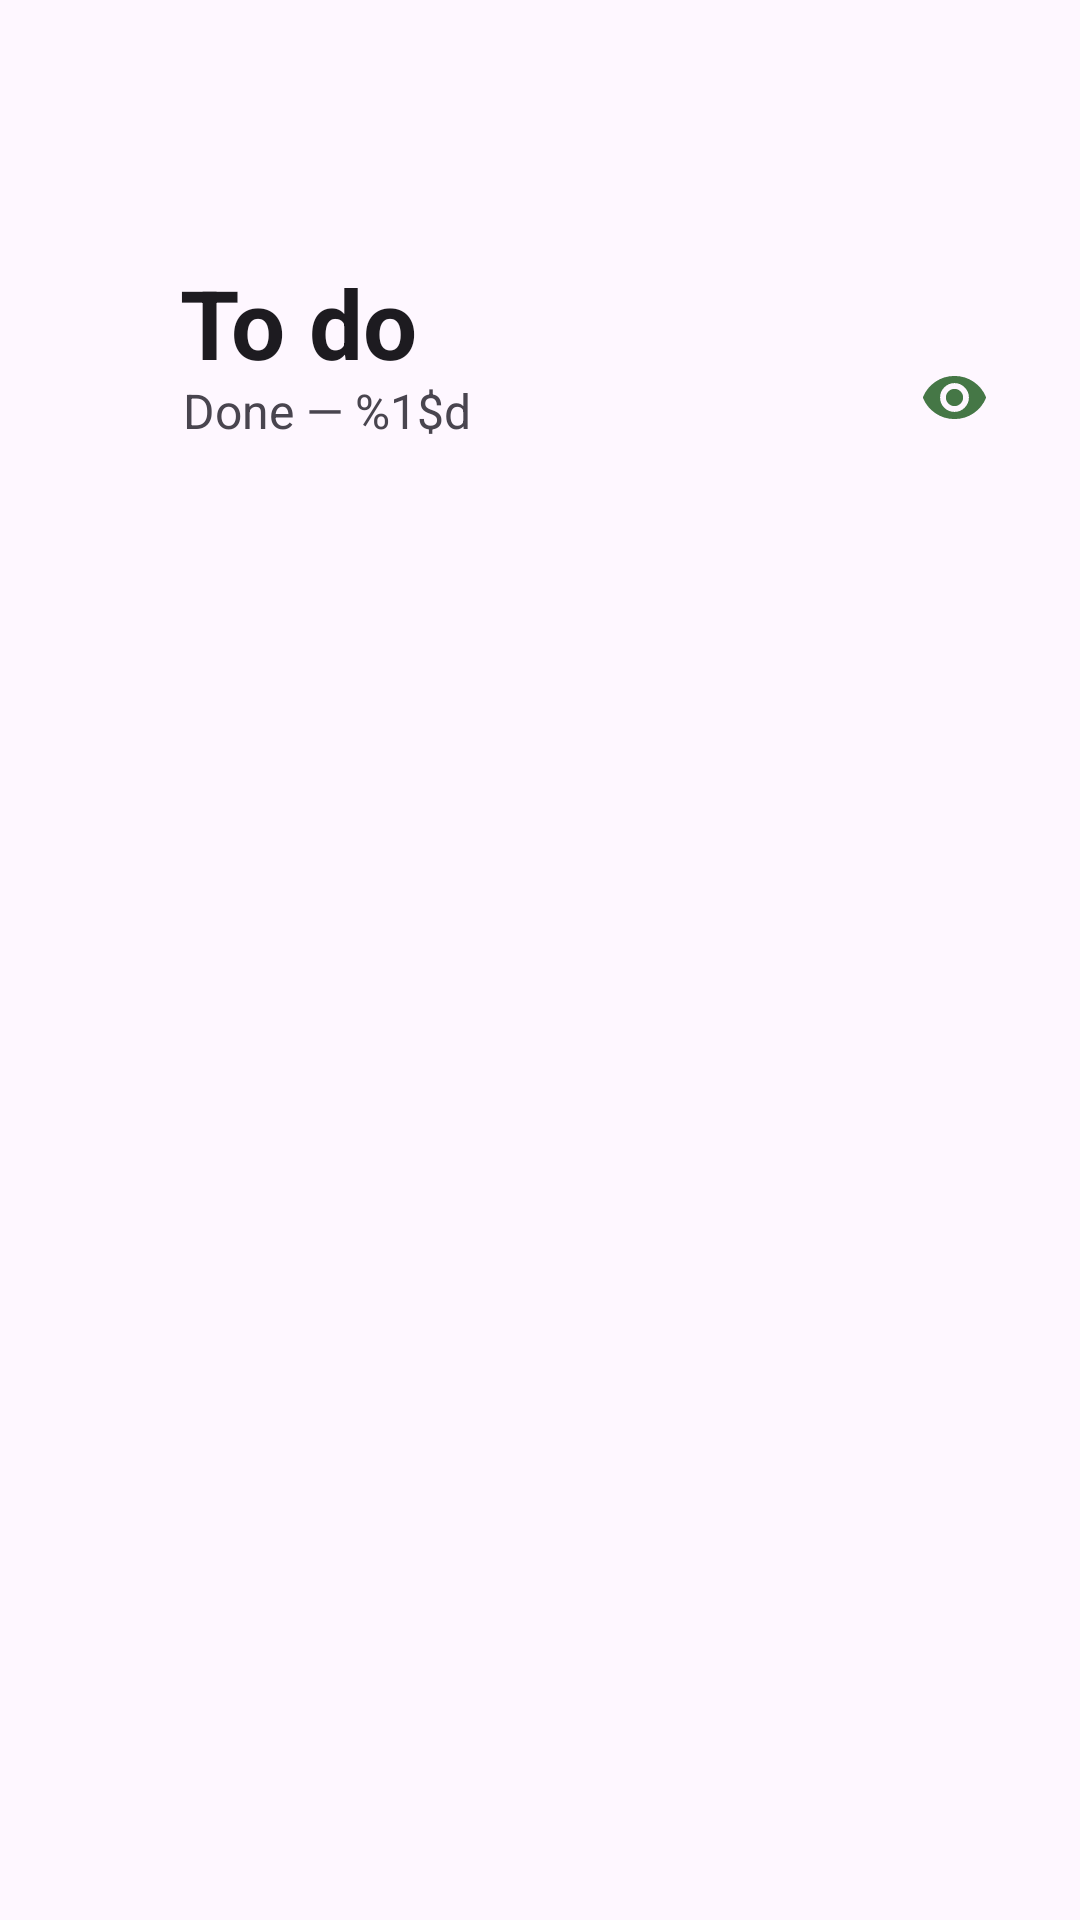

Named icons in this screenshot (1080×1920) and their bounding boxes, {"left": x1, "top": y1, "right": x2, "bottom": y2}:
visible: {"left": 923, "top": 376, "right": 986, "bottom": 419}
